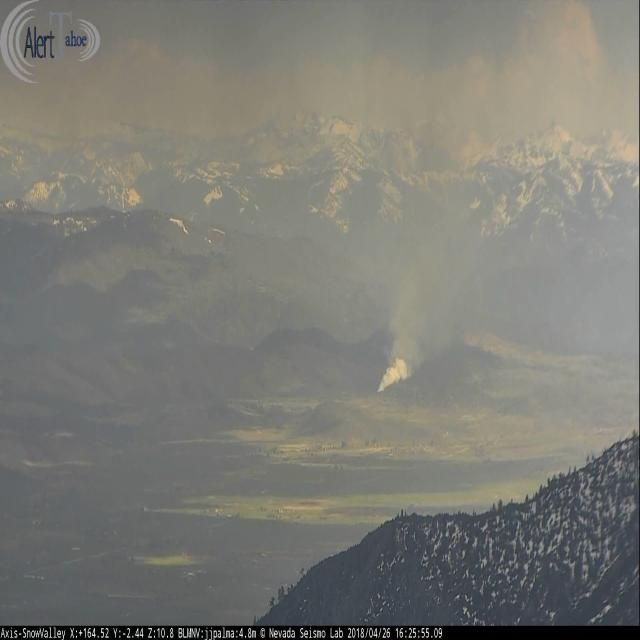smoke: (374, 201, 484, 393)
